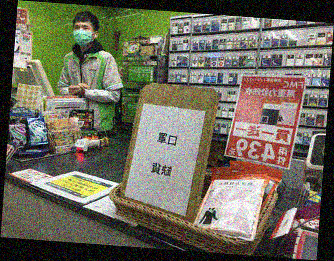with_mask: (72, 23, 93, 47)
